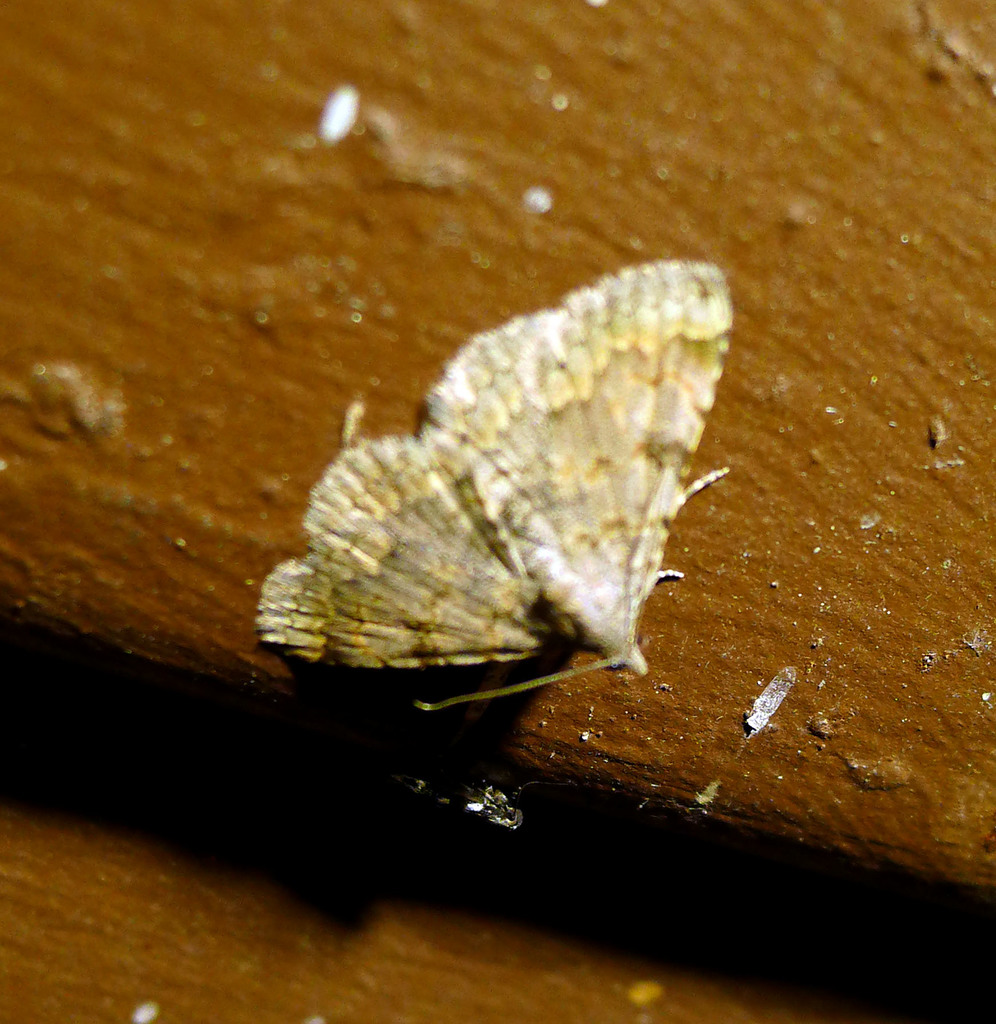Butterfly: (247, 233, 742, 733)
